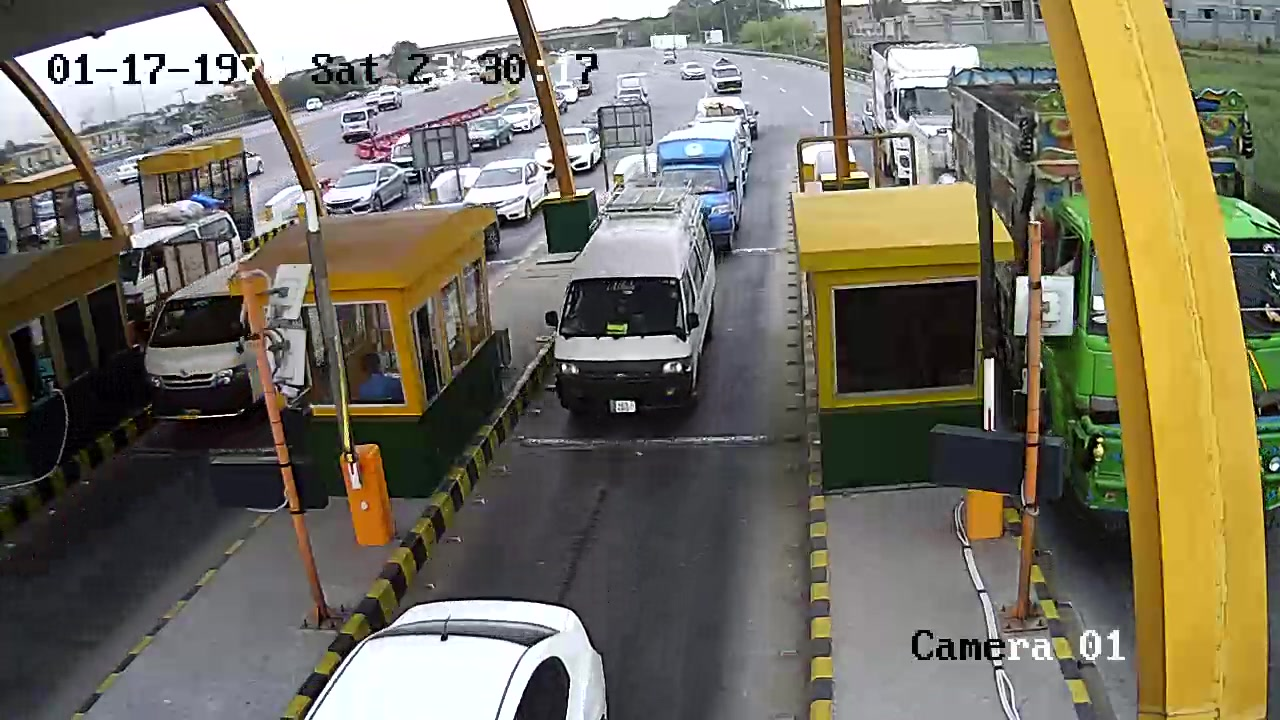F3: (541, 179, 716, 433)
